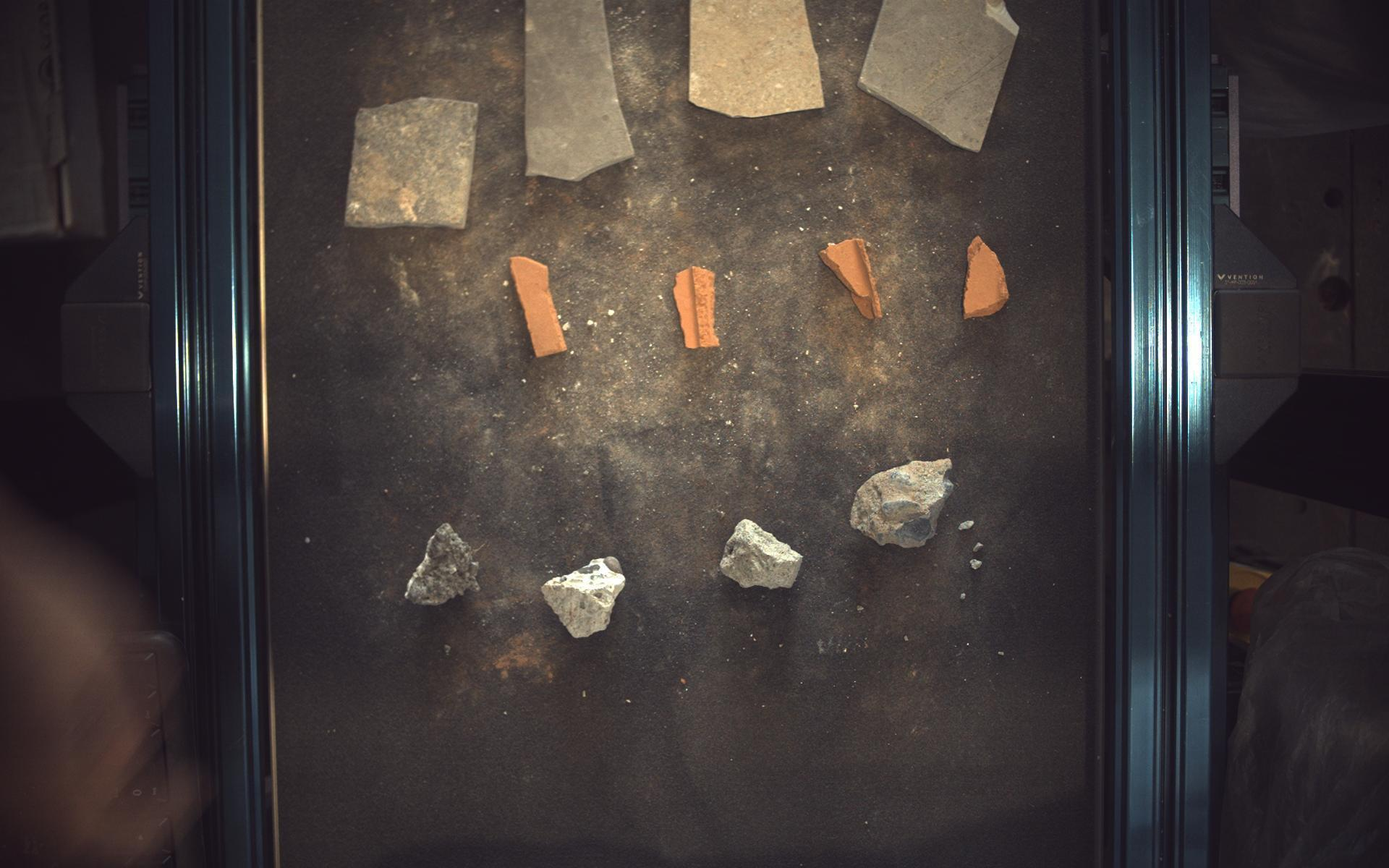brick: (511, 256, 568, 357), (821, 237, 884, 320), (674, 266, 721, 349), (966, 235, 1011, 319)
concrete: (852, 459, 956, 548), (542, 558, 626, 639), (405, 524, 480, 605), (721, 519, 804, 590)
tile: (859, 1, 1021, 150), (526, 1, 635, 180), (345, 95, 479, 228), (690, 1, 825, 116)
